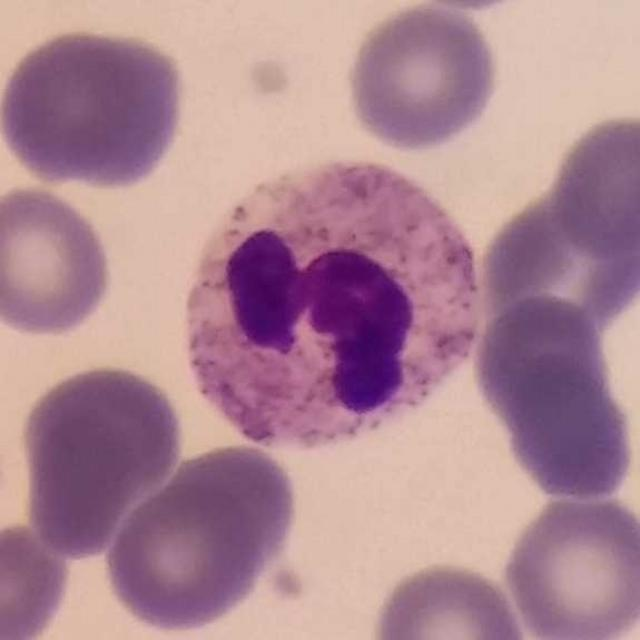Neutrophil: (168, 147, 498, 480)
RBC: (99, 439, 302, 636), (13, 357, 187, 552), (0, 23, 189, 192), (341, 1, 503, 155), (475, 188, 639, 338), (498, 352, 638, 505), (500, 488, 640, 640), (469, 290, 611, 428), (0, 182, 119, 341), (162, 441, 302, 563), (546, 108, 640, 257), (368, 556, 531, 640), (0, 515, 76, 640)
